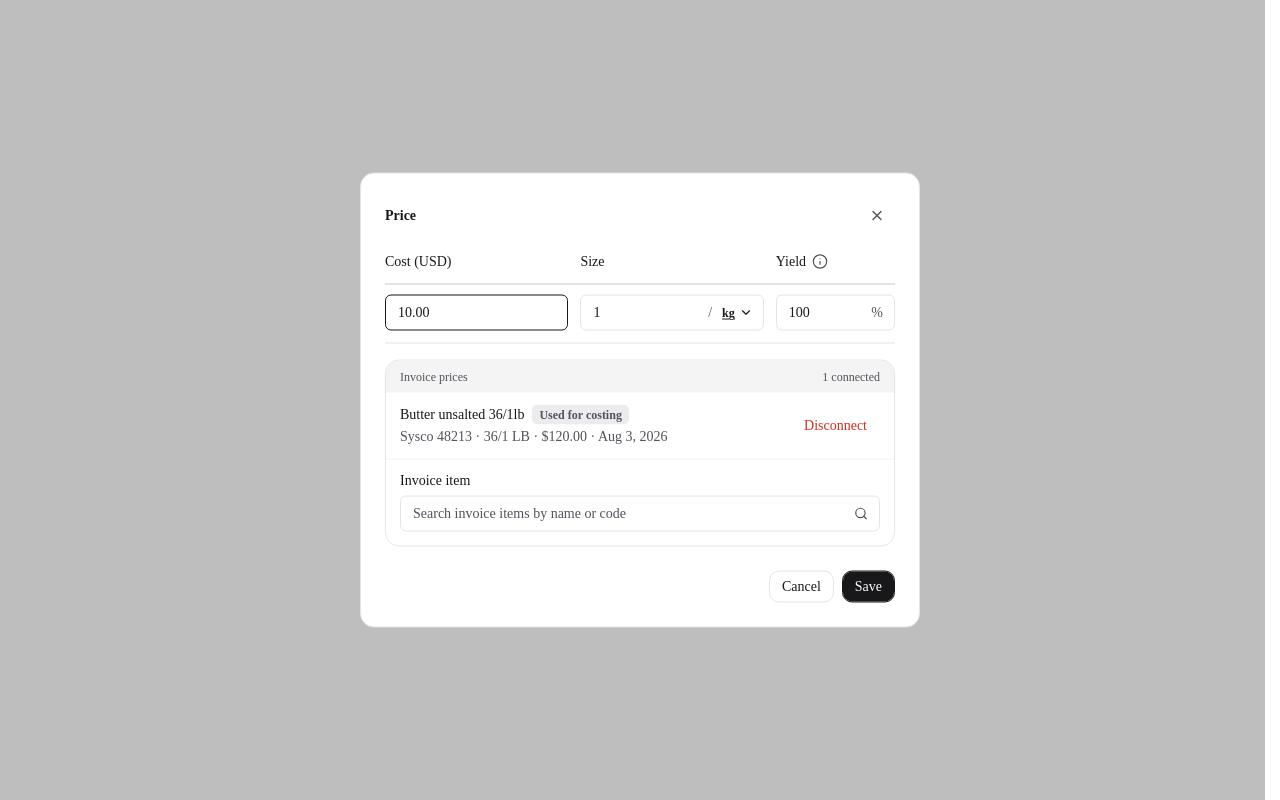
it: the connected invoice item › drops the line when the item is disconnected
The width and height of the screenshot is (1280, 800).
Click the button "Disconnect": (836, 426) 791,410 -> 880,442
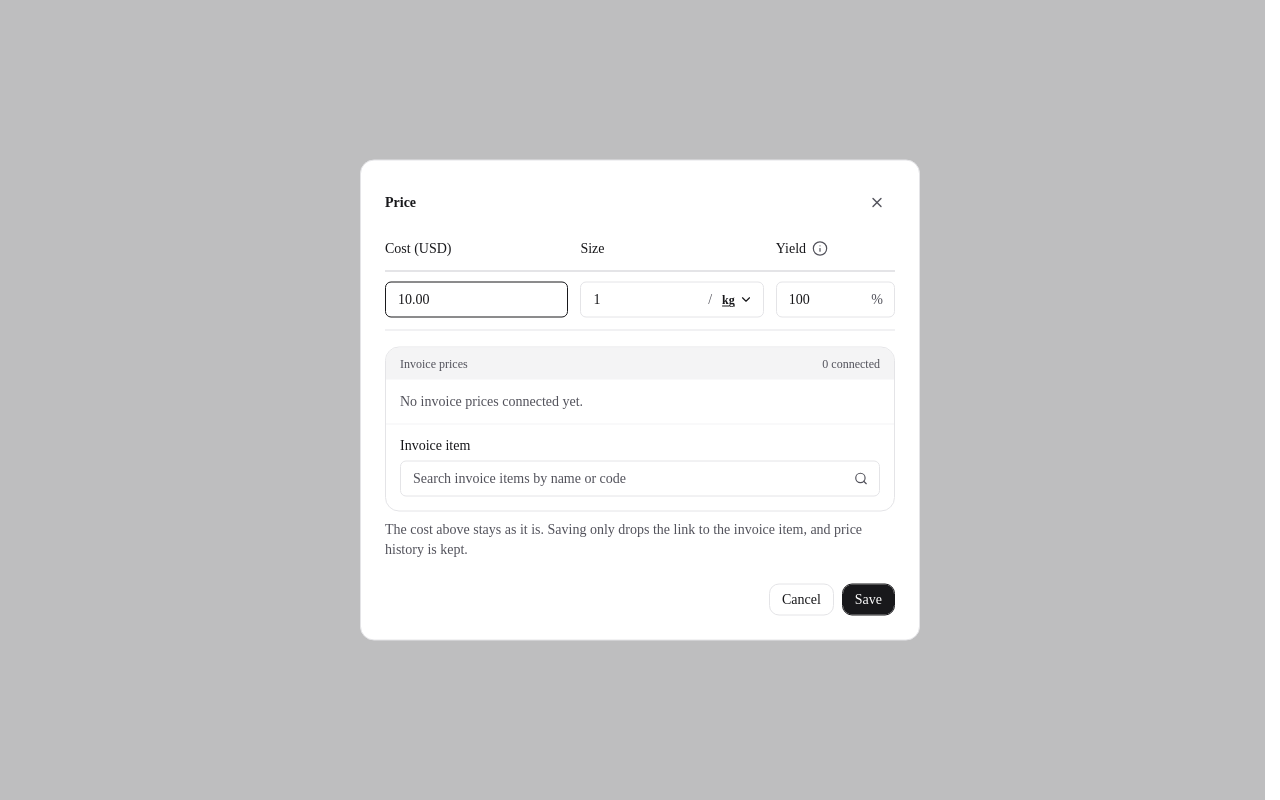
expect the dropdown labelled "Invoice item" is shown: met, box 400,460 -> 880,496
expect the text "Butter unsalted 36/1lb" is gone: met
expect the button "Disconnect" is gone: met
